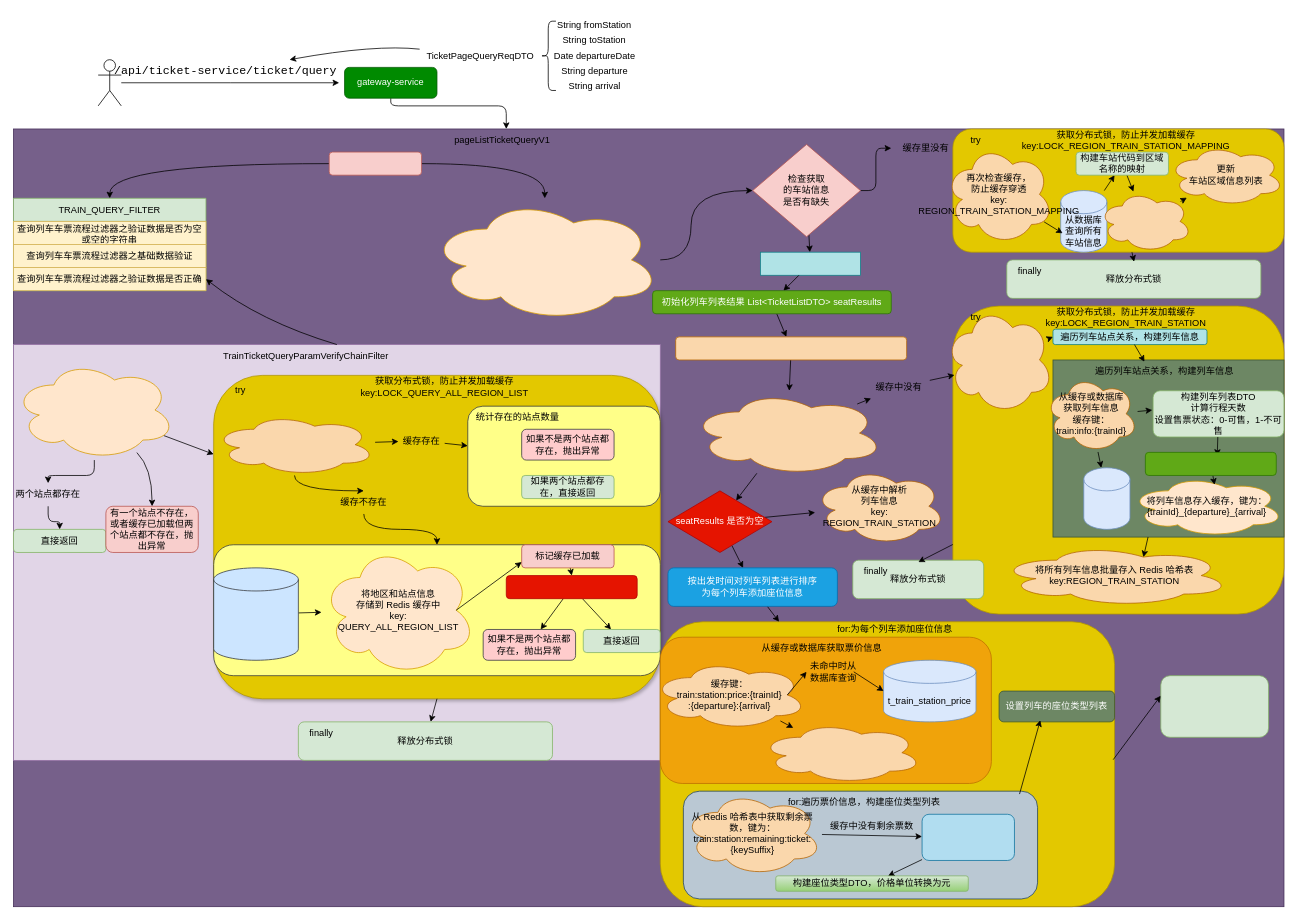
Image size: 1297x920. Some labels were removed from this diagram. The centre of each missing label's shape, as x and y in pixels:
从 Redis 哈希表中 获取区域间的所有列车信息 key: REGION_TRAIN_STATION: point 787,432
从 Redis 哈希表中获取 出发站和到达站的区域信息 key: REGION_TRAIN_STATION_MAPPING: point 544,259
从 Redis 缓存中查询 出发站和到达站是否存在 key： QUERY_ALL_REGION_LIST: point 94,409
从缓存加载器获取 座位余量缓存加载: point 967,837
再次检查缓存 key: QUERY_ALL_REGION_LIST: point 294,444
再次检查缓存， 防止缓存穿透 key: REGION_TRAIN_STATION: point 998,359
初始化列车列表结果: point 810,263
将映射信息存入 Redis 哈希表: point 1145,221
执行责任链: point 375,163
数据库查询所有地区和站点信息: point 255,613
构建区域间火车站的哈希键，格式为：region:train:station:{出发区域}:{到达区域}: point 791,348
构建并返回响应DTO: point 1214,706
检查出发站和到达站是否存在于映射关系中: point 571,587
添加到结果列表seatResults: point 1210,463
用户: point 109,82
缓存未命中时从数据库查询: point 1106,498
缓存过期时间：预售天数ADVANCE_TICKET_DAY: point 841,752
